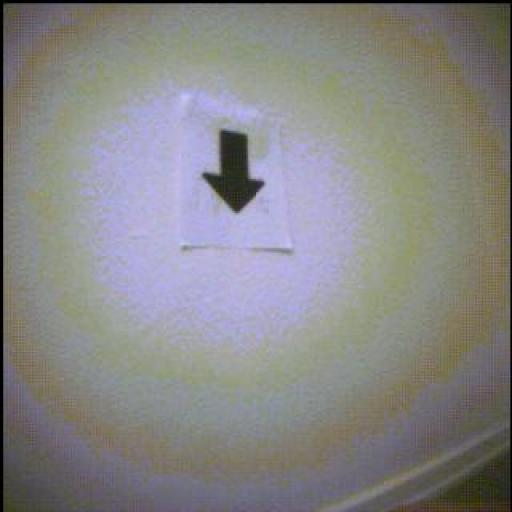Arrow: (204, 131, 265, 214)
